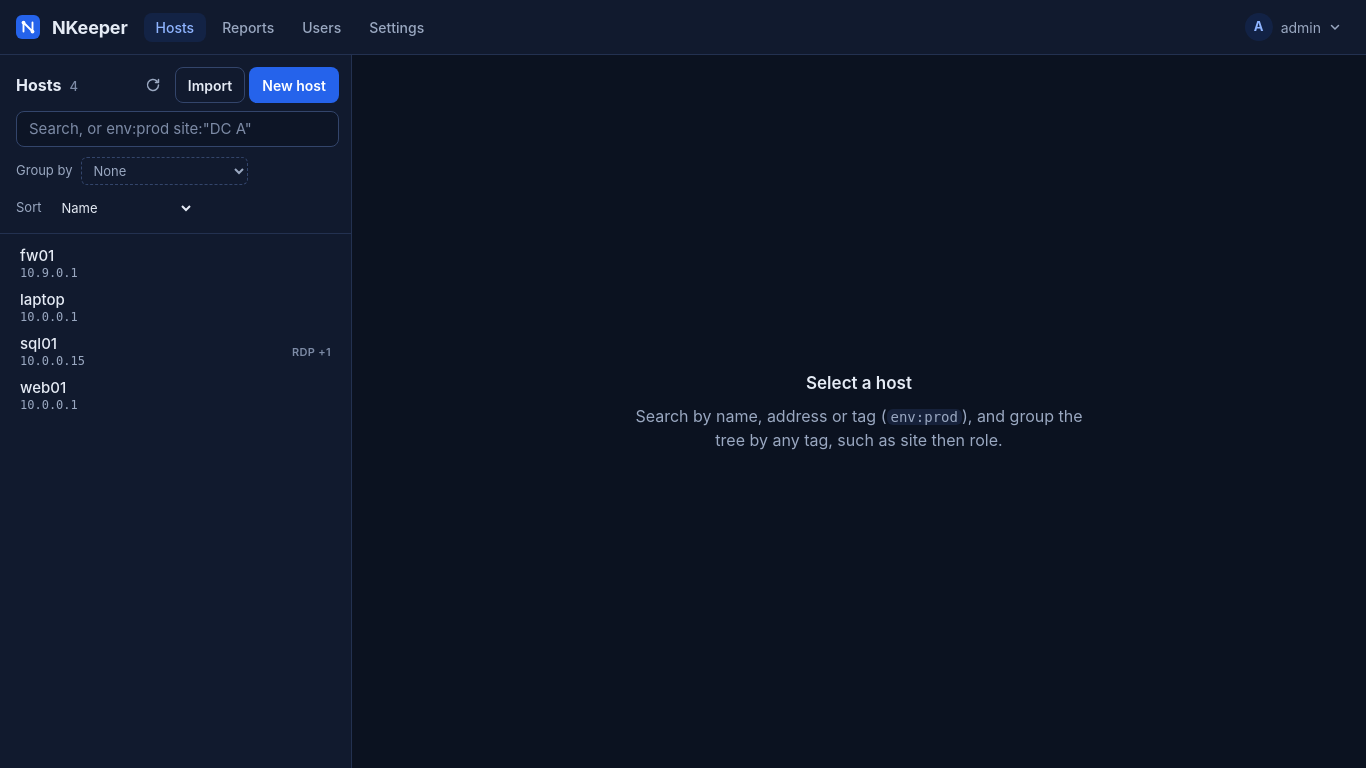
Test: workspace › lists every host in the tree and shows a selected host’s details
Click the button "sql01 10.0.0.15 RDP +1".
click(39, 344)  # box [8,330,343,374]
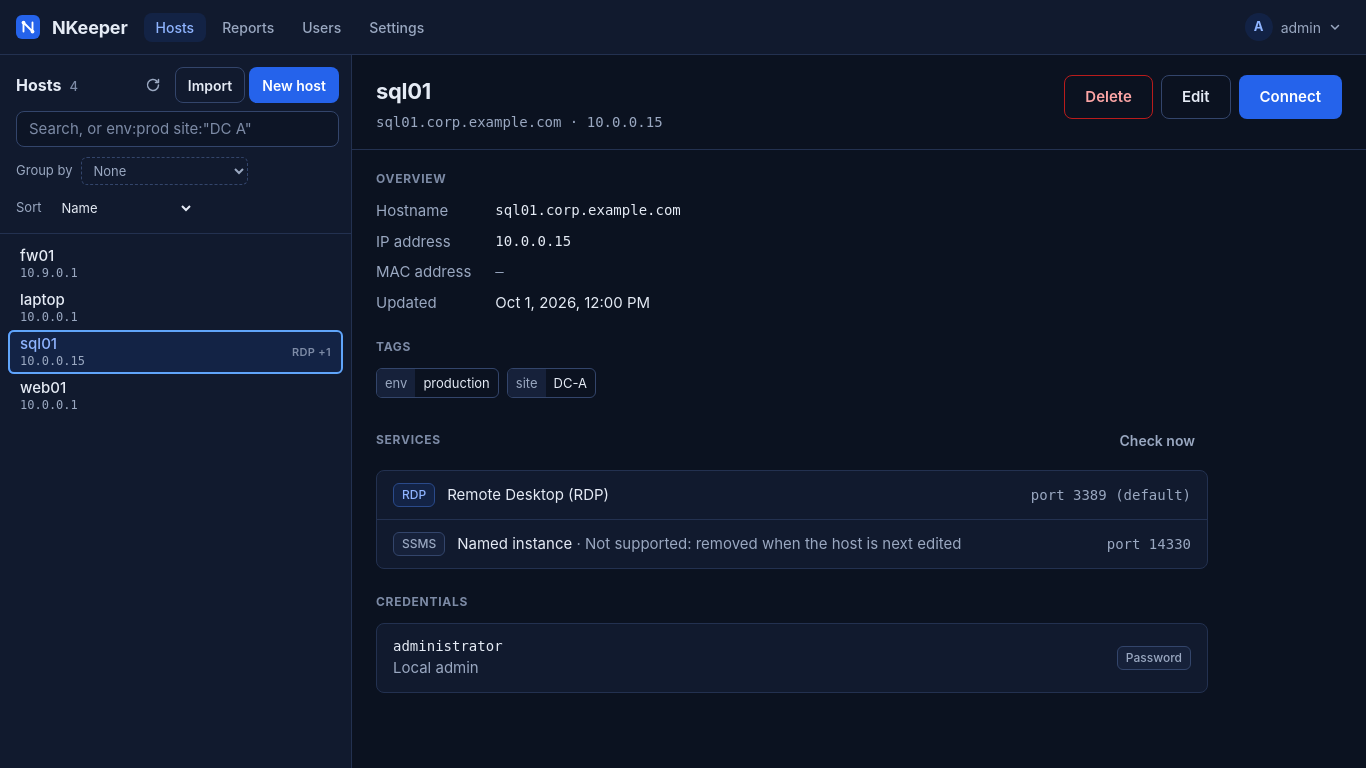
Expected: the text "sql01.corp.example.com · 10.0.0.15" is shown, [376,112,663,133]
Expected: the text "Named instance" is shown, [457,534,572,553]
Expected: the text "port 14330" is shown, [1107,534,1191,554]
